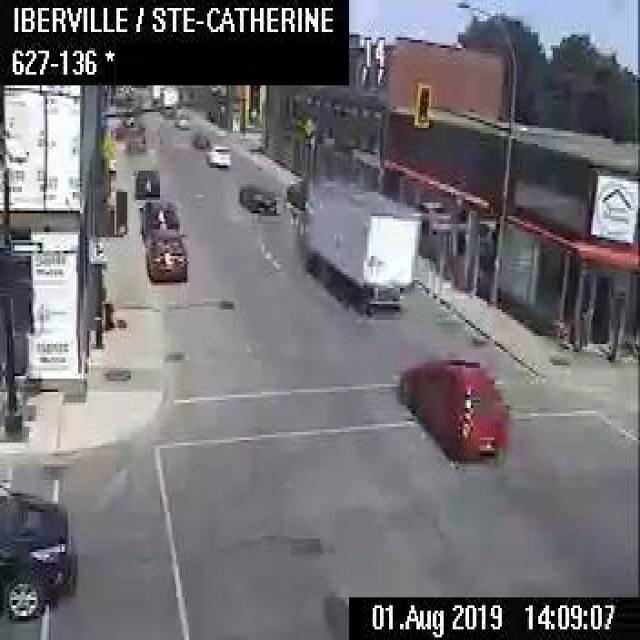vehicle: (297, 170, 420, 304), (395, 352, 509, 461), (0, 478, 73, 622), (144, 225, 186, 282), (138, 199, 178, 237), (236, 183, 276, 213), (134, 167, 158, 197), (204, 142, 231, 165), (124, 124, 144, 150), (191, 128, 208, 147), (173, 111, 187, 127), (158, 102, 172, 115)
